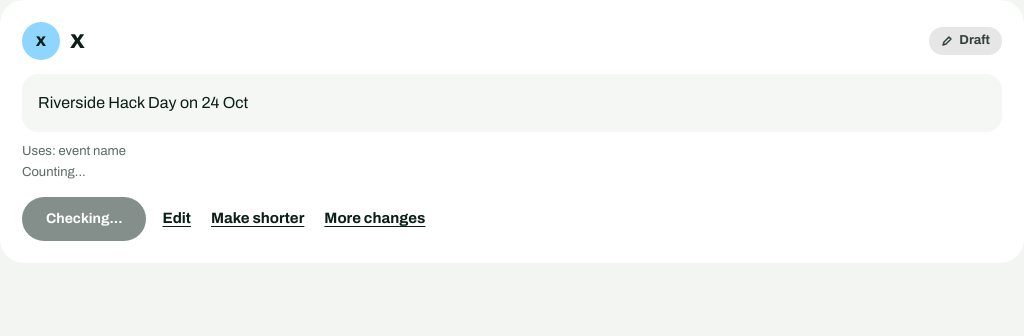
it: post card › make shorter keeps the previous text as a version
Step 1. Click the button "Make shorter" → x=258, y=219, box [207, 197, 308, 241]
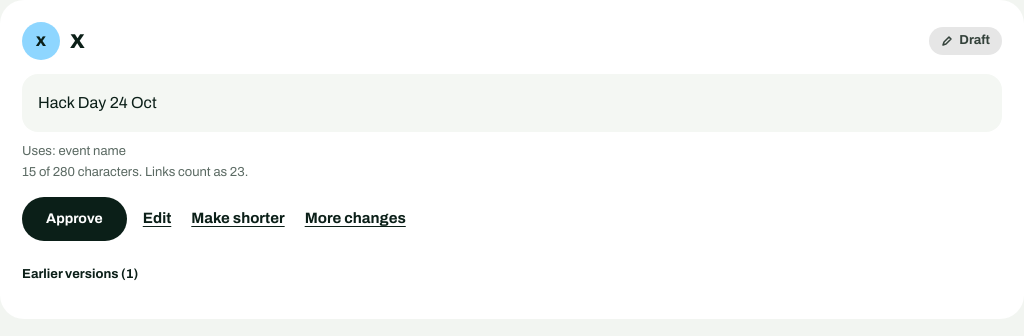
Result: the text "Hack Day 24 Oct" is shown at [38, 94, 157, 111]
